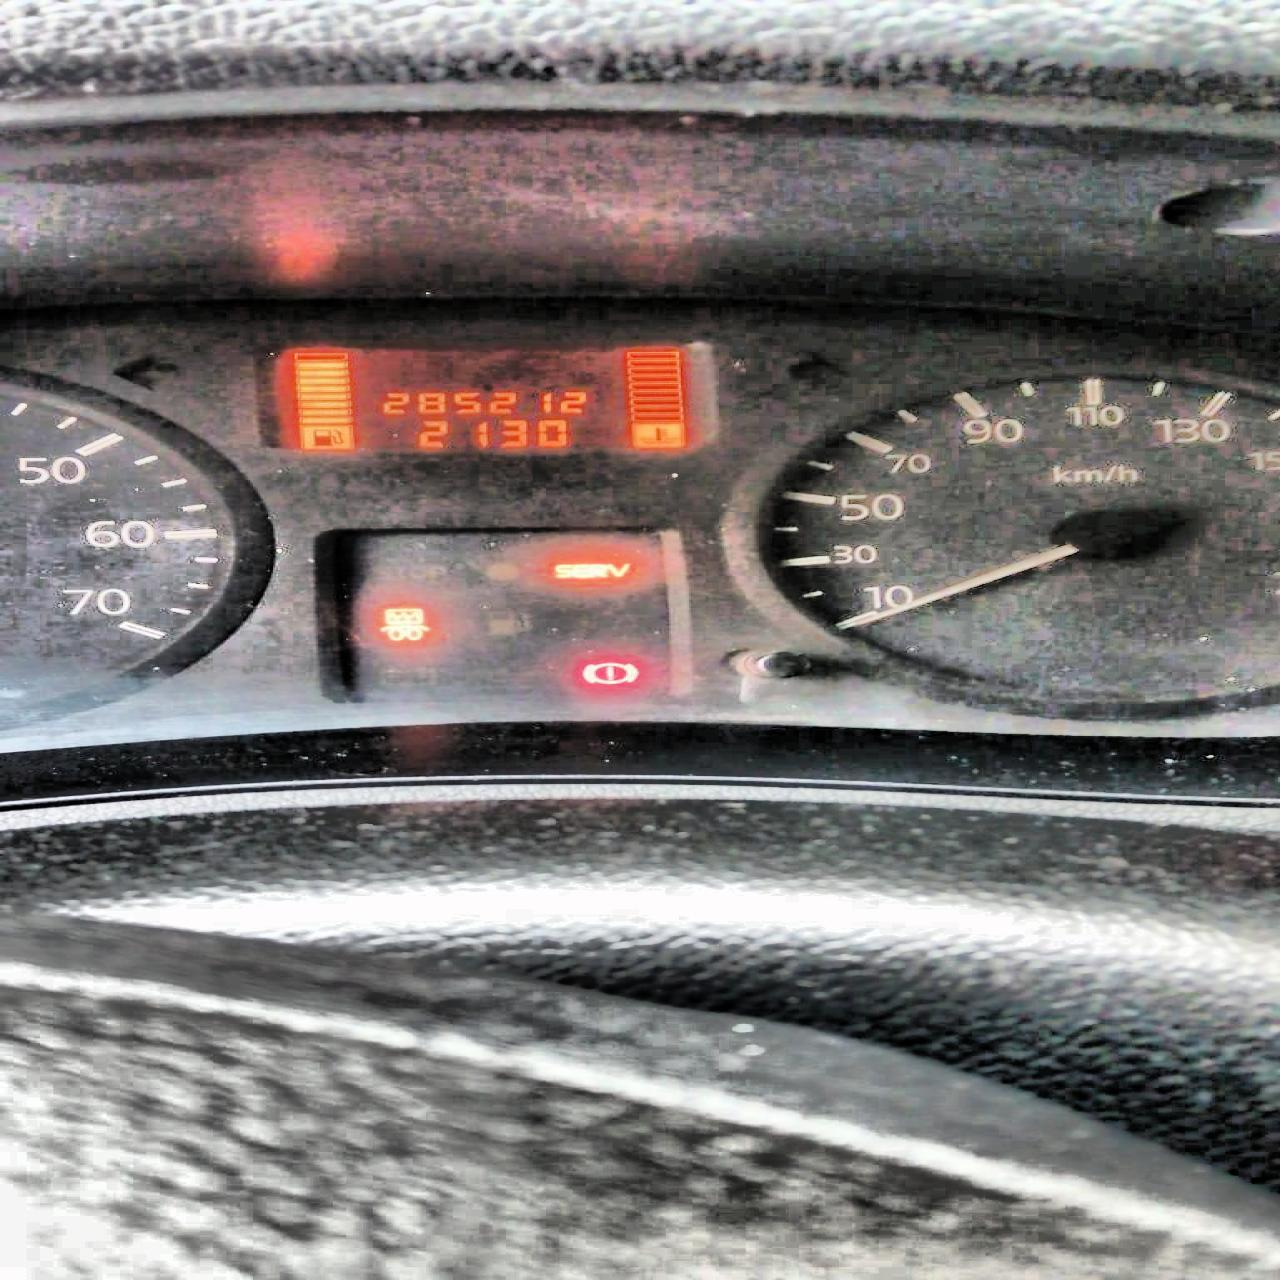0: (535, 418, 566, 448)
1: (476, 421, 488, 448), (539, 393, 551, 414)
2: (416, 420, 445, 448), (485, 392, 515, 415), (380, 392, 409, 414), (558, 392, 586, 413)
3: (497, 418, 527, 448)
5: (451, 392, 479, 414)
8: (416, 392, 444, 414)
odometer: (254, 339, 706, 456)
